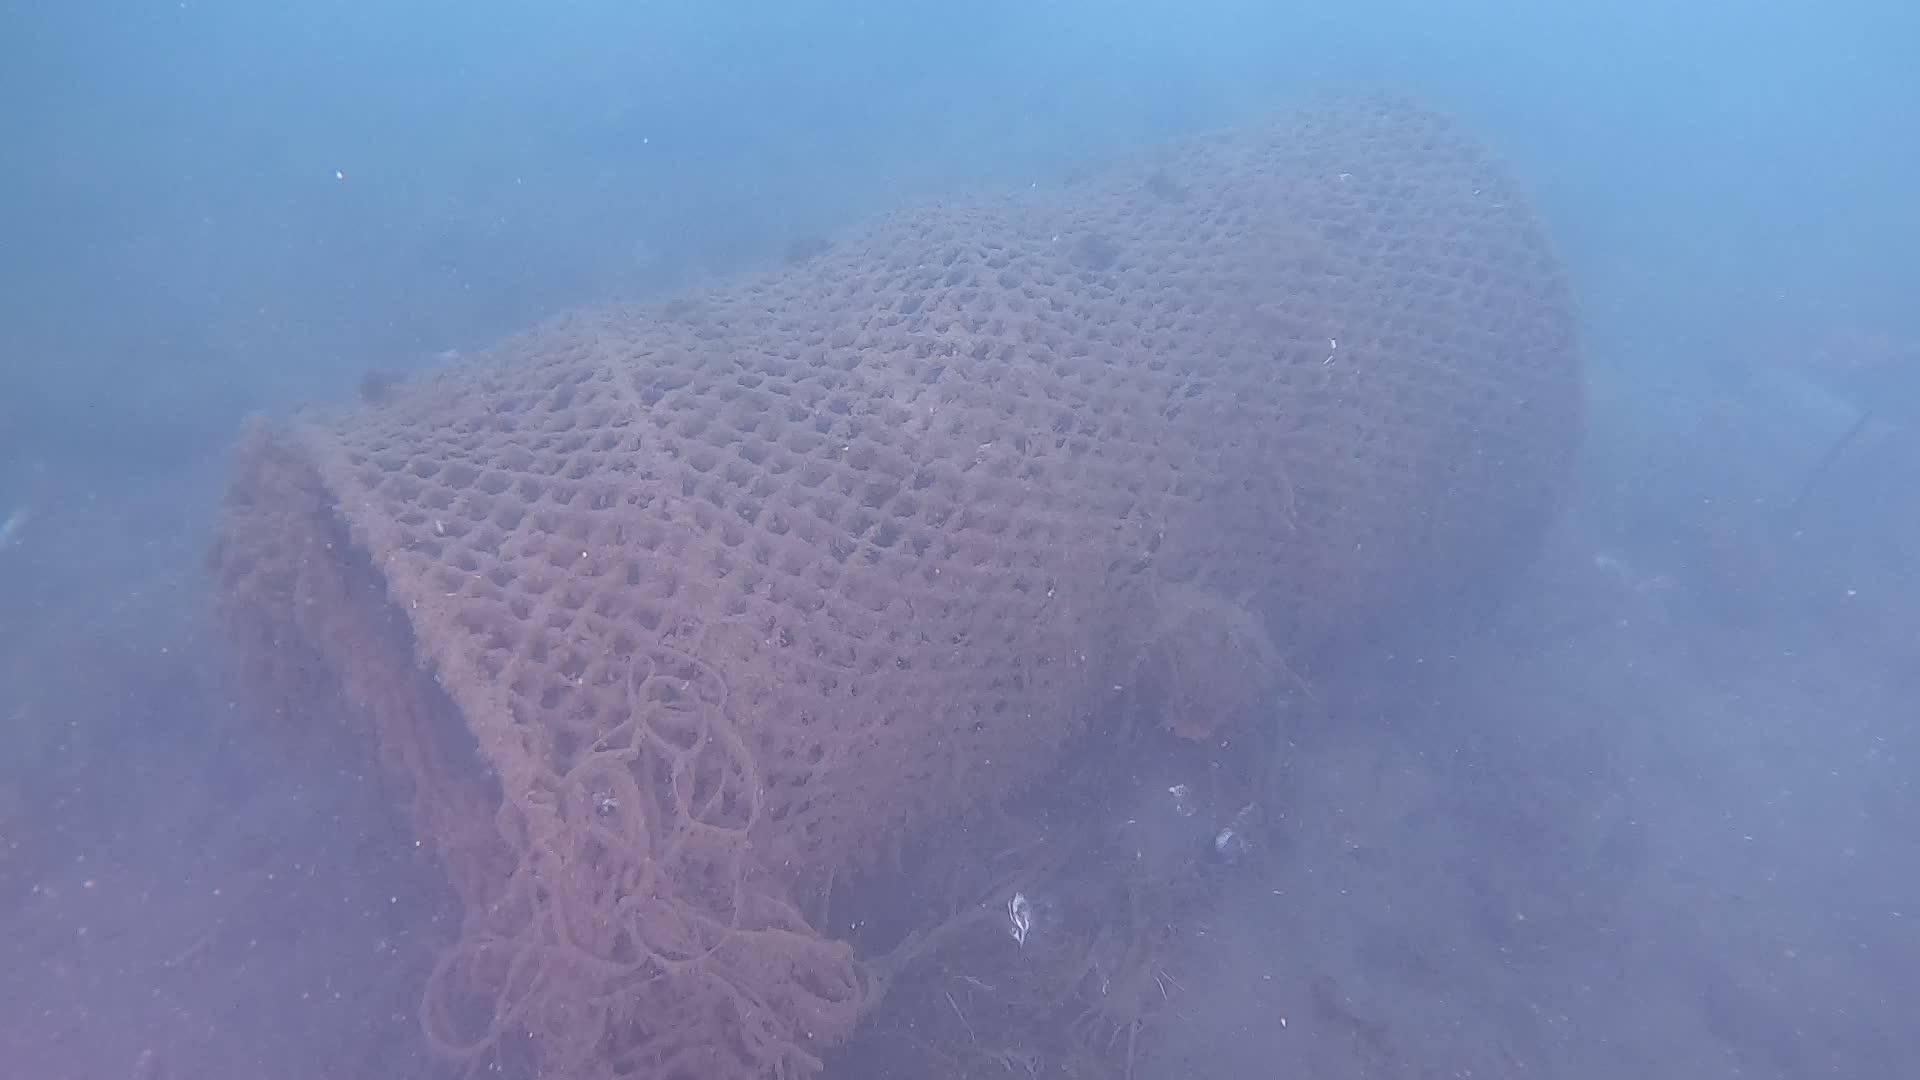spring fish trap: (198, 76, 1593, 1072)
